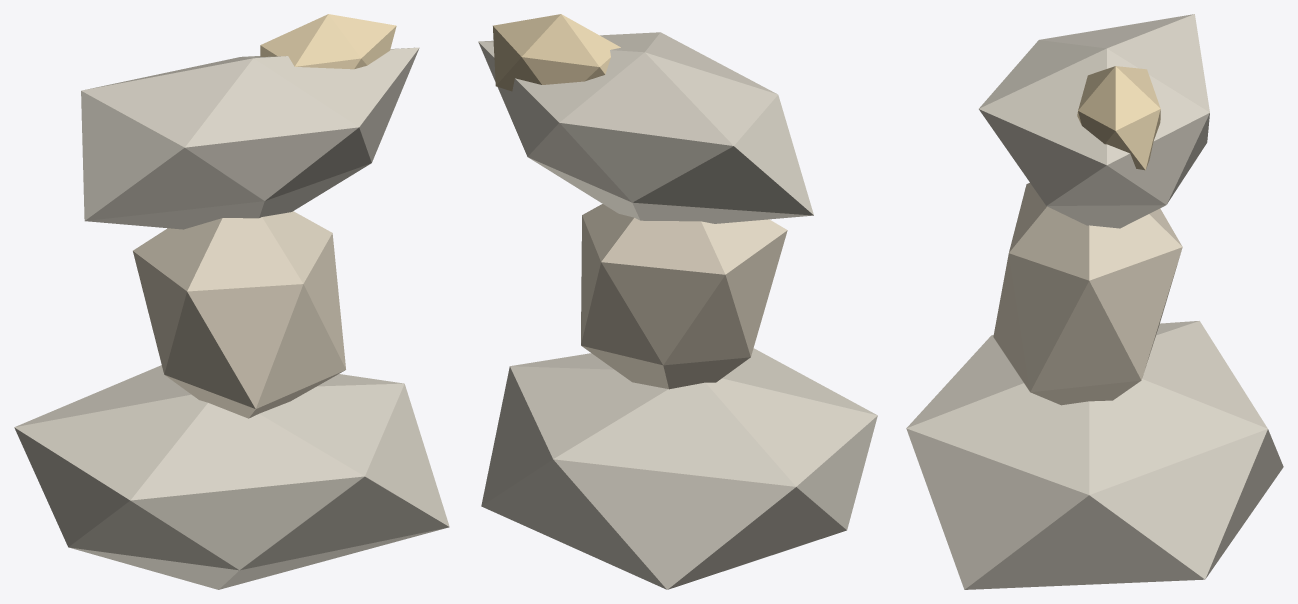
The model's file is vit_klippa_2.glb.
3 renders of one model, left to right at view 1: azimuth 30°, elevation 25°; view 2: azimuth 150°, elevation 25°; view 3: azimuth 270°, elevation 25°, orthographic. The views are drawn at different scales.
Parts seen in each view (by area): view 1: vit_klippa_2; view 2: vit_klippa_2; view 3: vit_klippa_2.
Part boxes in pixels (left/top/right/bottom): vit_klippa_2: left=14, top=14, right=449, bottom=589; vit_klippa_2: left=478, top=14, right=877, bottom=589; vit_klippa_2: left=906, top=14, right=1283, bottom=589.
Bounding box in the file's own units: 5.02 × 7.13 × 4.31.
